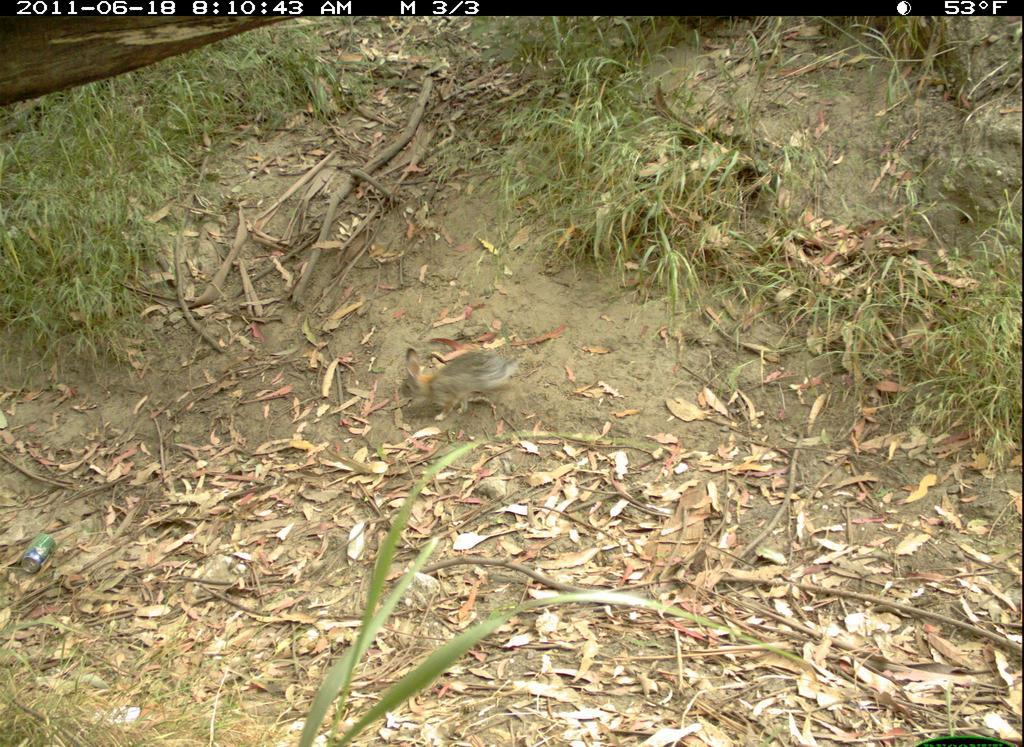rabbit: (391, 332, 537, 438)
